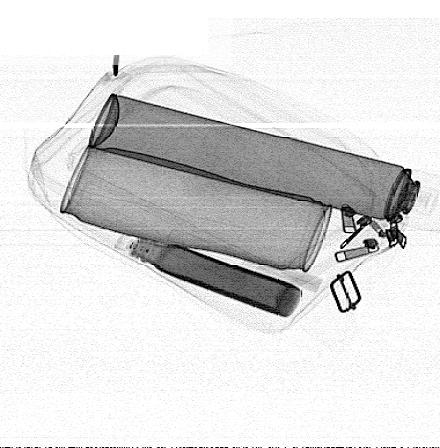Sprayer: (87, 92, 439, 232)
